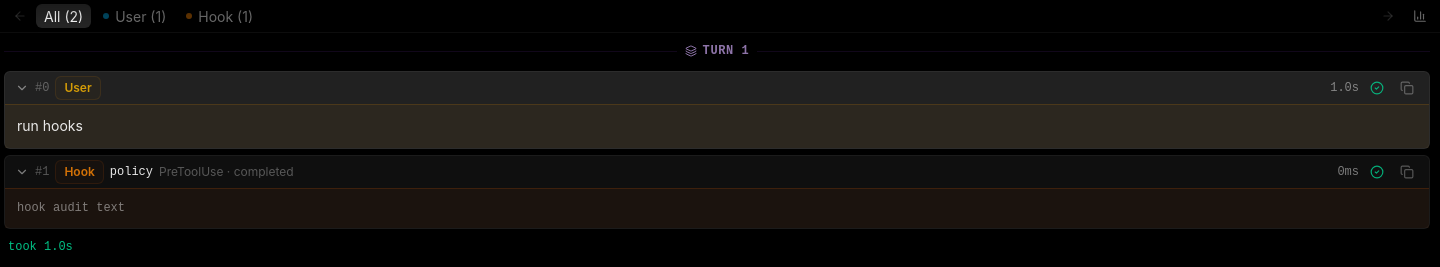
AgentExecutionFlowList › hook 步骤使用 orange 标识并在 Header 提供 hook 筛选
The width and height of the screenshot is (1440, 267).
Header 展示 hook 筛选 tab，点击后激活并使用 orange 配色
Click the button "Hook (1)" at (220, 16), box [178, 4, 261, 28]
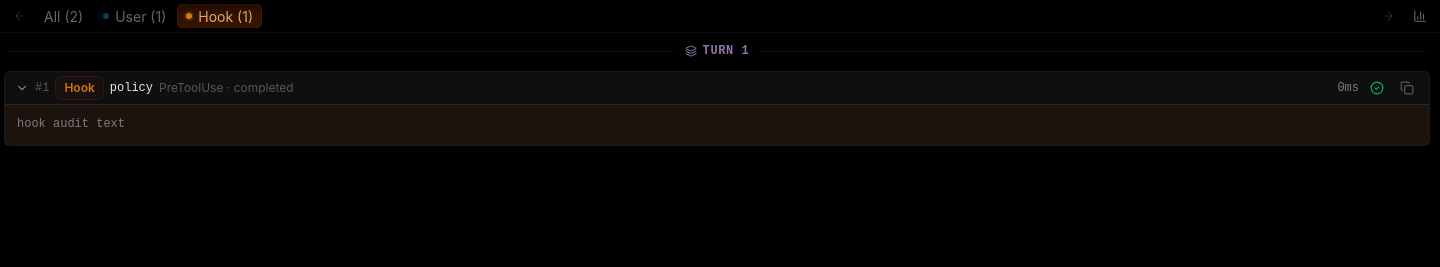
Expected: the text "policy" is shown, [110, 82, 153, 94]
Result: the text "run hooks" is gone
